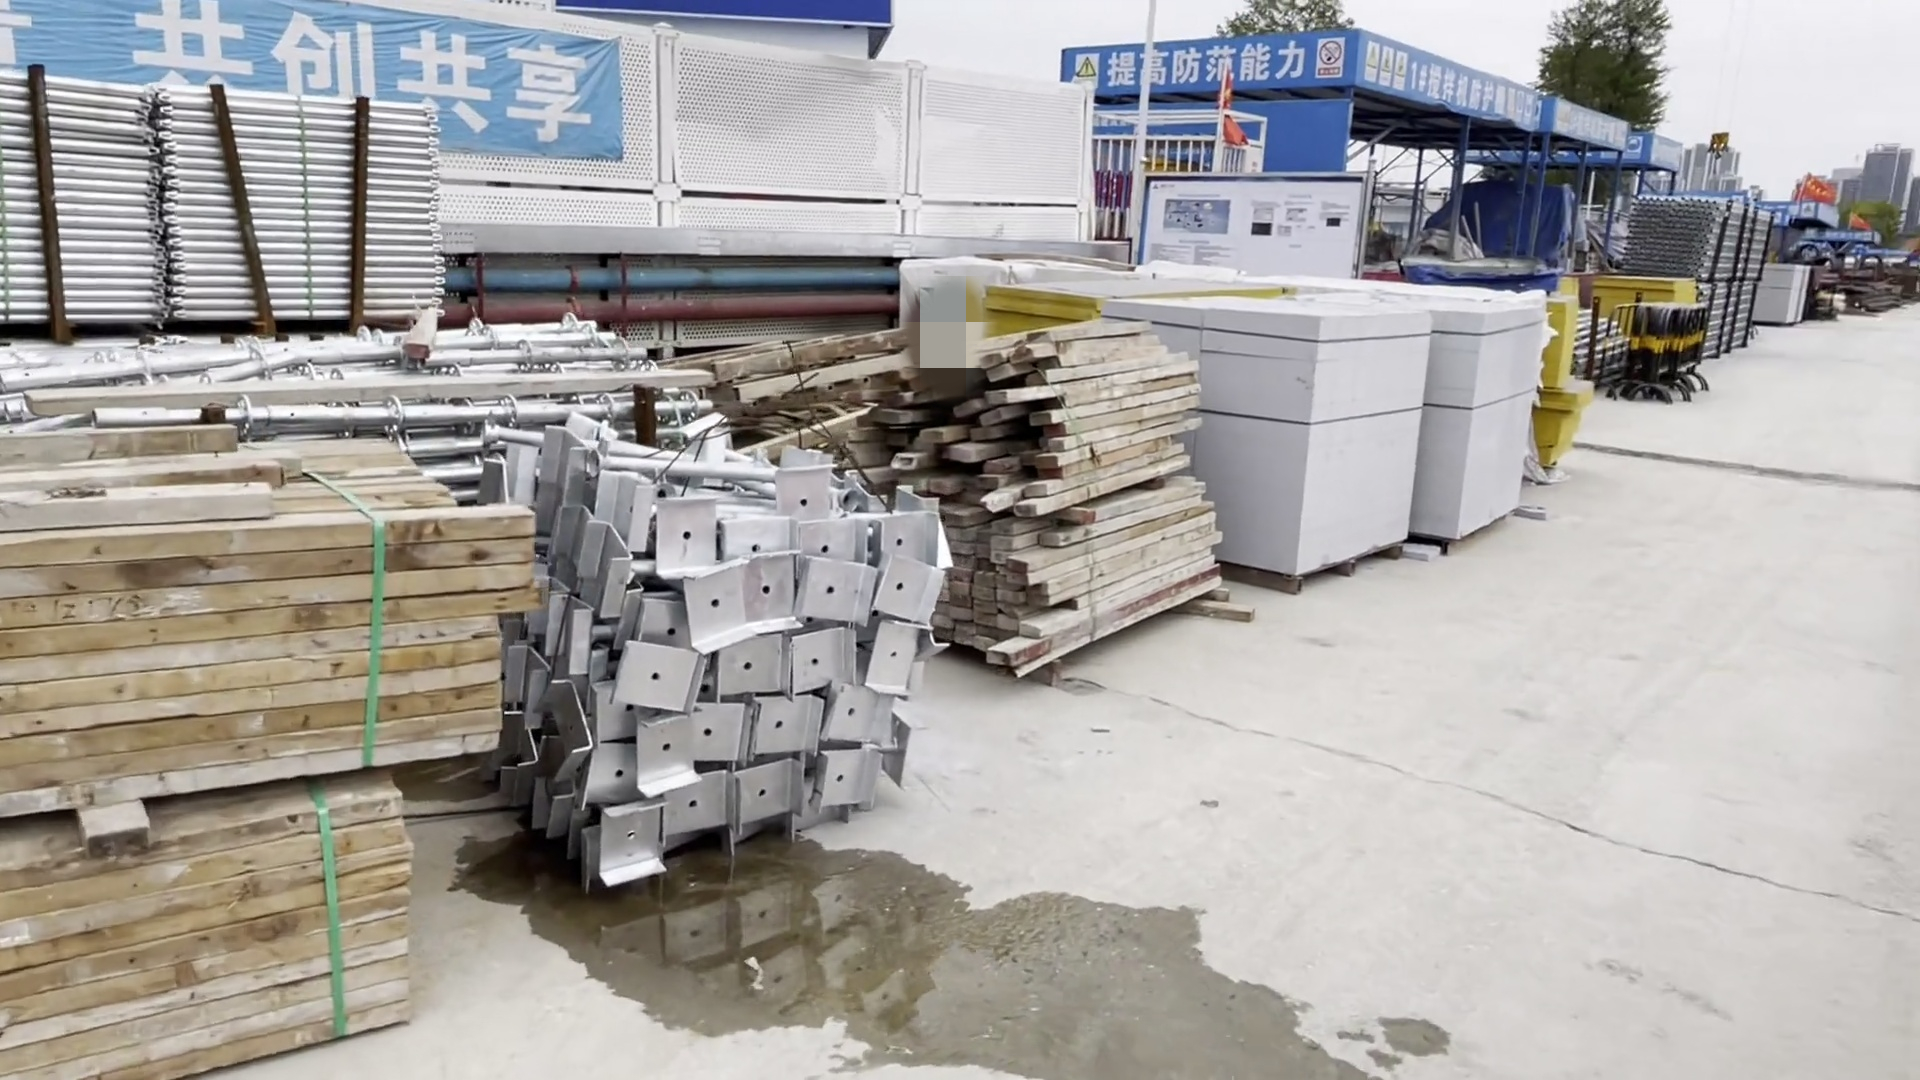brick: (1135, 290, 1563, 615)
scaffold: (15, 62, 454, 357)
slogan: (1356, 40, 1538, 133), (1062, 42, 1350, 82), (1557, 103, 1631, 160)
wood: (11, 435, 467, 1080), (938, 331, 1160, 702)
